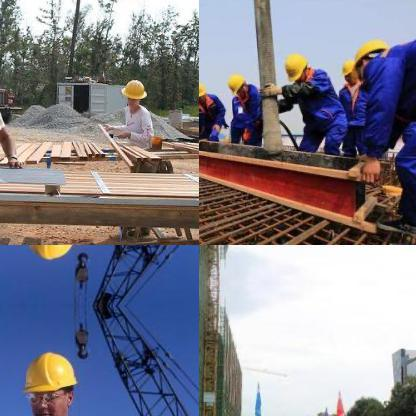Helmet: (16, 339, 79, 415), (15, 245, 79, 270), (338, 46, 364, 90), (353, 37, 386, 69), (118, 74, 148, 108), (282, 48, 308, 82), (224, 68, 245, 96), (199, 77, 211, 101)
